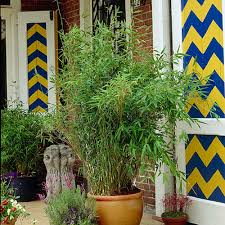bamboo: (56, 32, 181, 191)
